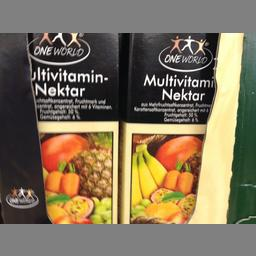juice: (120, 32, 217, 222), (26, 32, 120, 222)
